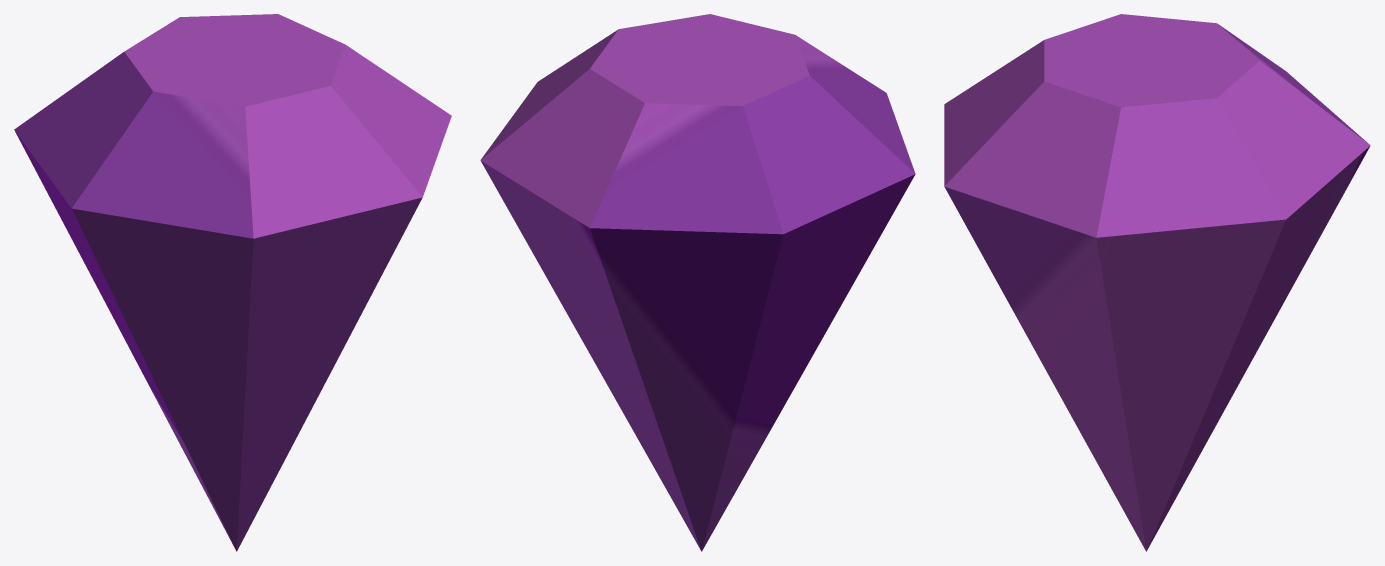
The model's file is diamante4.fbx.
3 renders of one model, left to right at view 1: azimuth 30°, elevation 25°; view 2: azimuth 150°, elevation 25°; view 3: azimuth 270°, elevation 25°, orthographic.
Visible parts, largest first — view 1: Cone.002; view 2: Cone.002; view 3: Cone.002.
Boxes of the visible parts, x1,y1,x2,y2 form: Cone.002: (14,14,451,551); Cone.002: (480,14,915,551); Cone.002: (944,14,1370,551).
Size of the model in its own units: 195 by 242 by 190.
